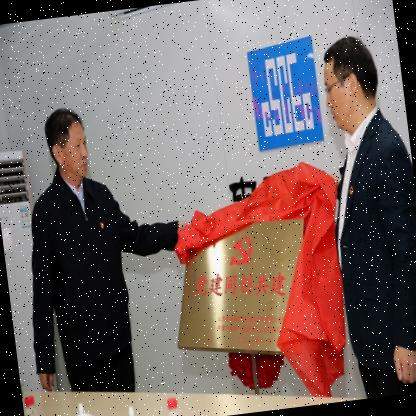sem_capacete: (314, 32, 386, 139), (40, 102, 93, 185)
sem_colete_refletivo: (9, 172, 146, 392), (319, 115, 415, 388)
